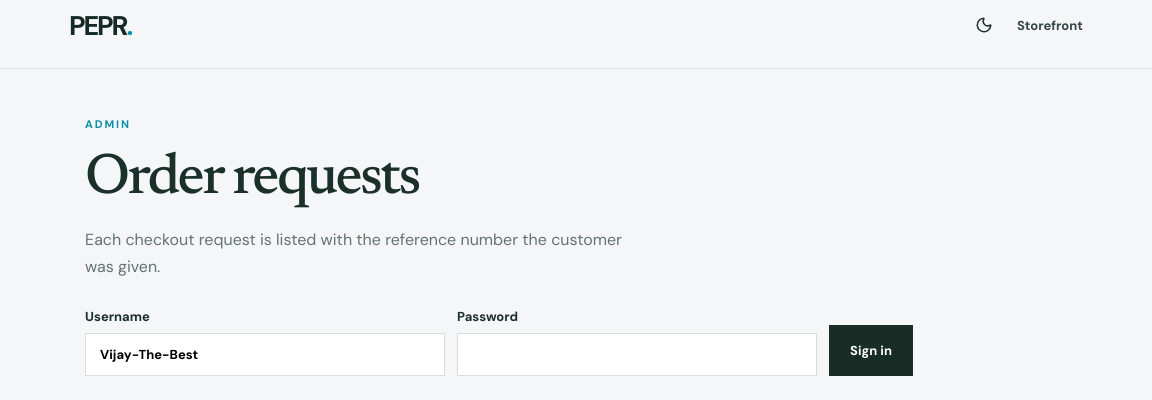
Scenario: admin order page › shows an error when the admin password is rejected
This screenshot has width=1152, height=400.
Type "wrong-password" into the password field labelled "Password" at x=637, y=355, box [457,333,817,376]
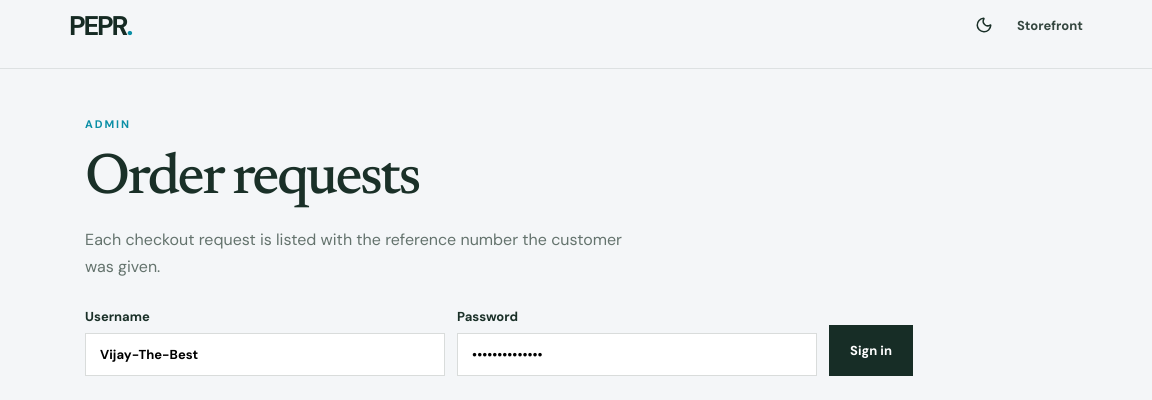
Click the button "Sign in" at x=871, y=351, box [829,325,913,376]
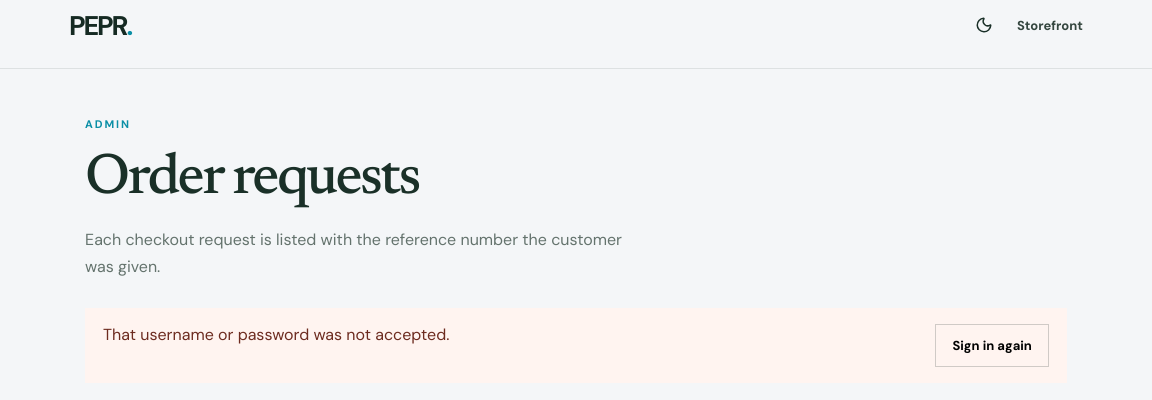
Now the text "That username or password was not accepted." is shown, box [103,324,449,345]
